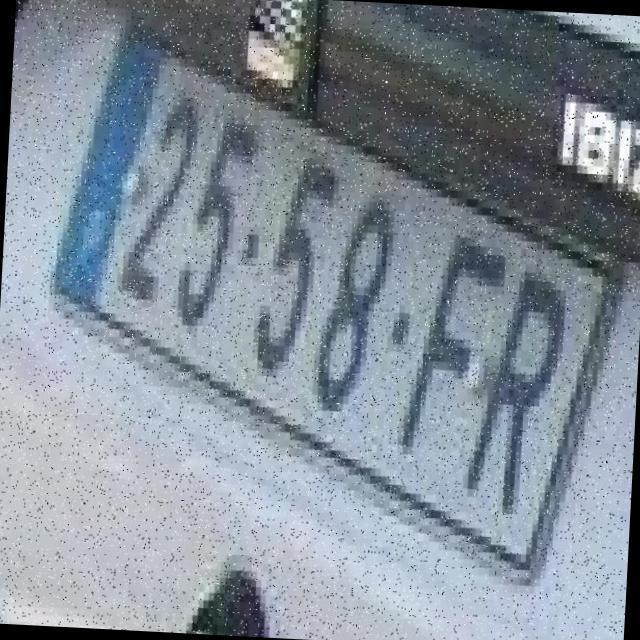License Plate: (35, 16, 637, 600)
